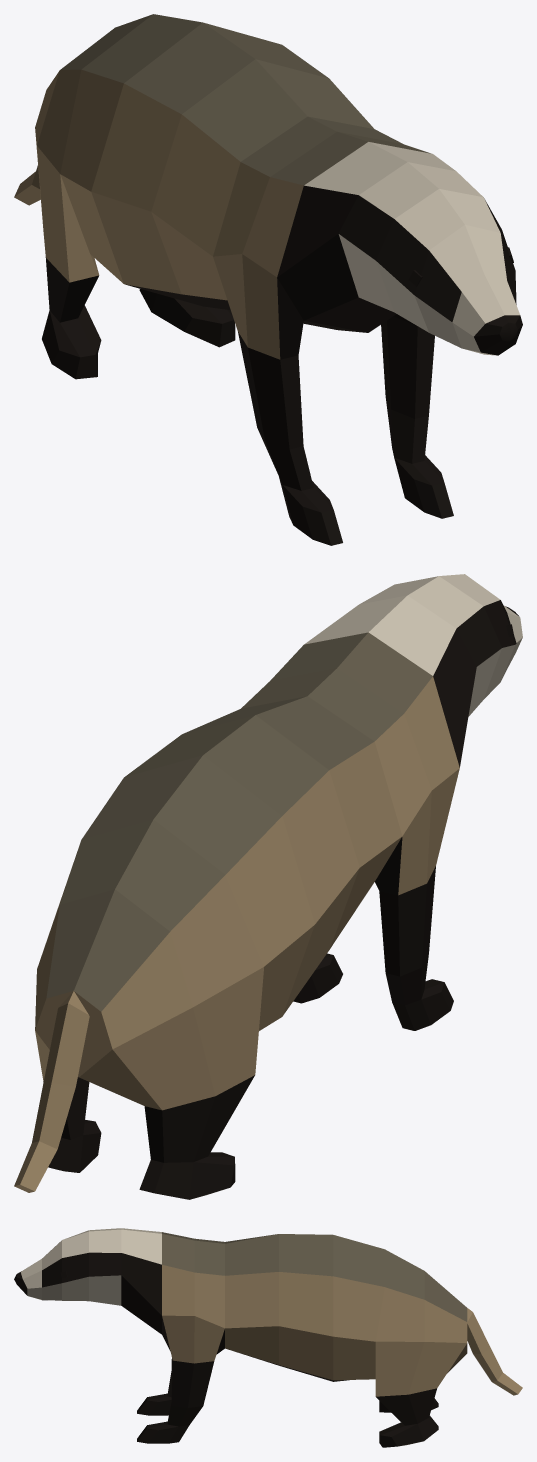
3 views of the same model, one above another, from view 1: azimuth 30°, elevation 25°; view 2: azimuth 150°, elevation 25°; view 3: azimuth 270°, elevation 25° (orthographic). The views are drawn at different scales.
Parts seen in each view (by area): view 1: Geo_Badger; view 2: Geo_Badger; view 3: Geo_Badger.
Part boxes in pixels (box(x1,y1,x2,y2)): Geo_Badger: box(14, 14, 522, 545); Geo_Badger: box(14, 574, 522, 1199); Geo_Badger: box(14, 1228, 522, 1447).
Bounding box in the file's own units: 42.24 × 68.93 × 161.
1 material, 1 textured.
